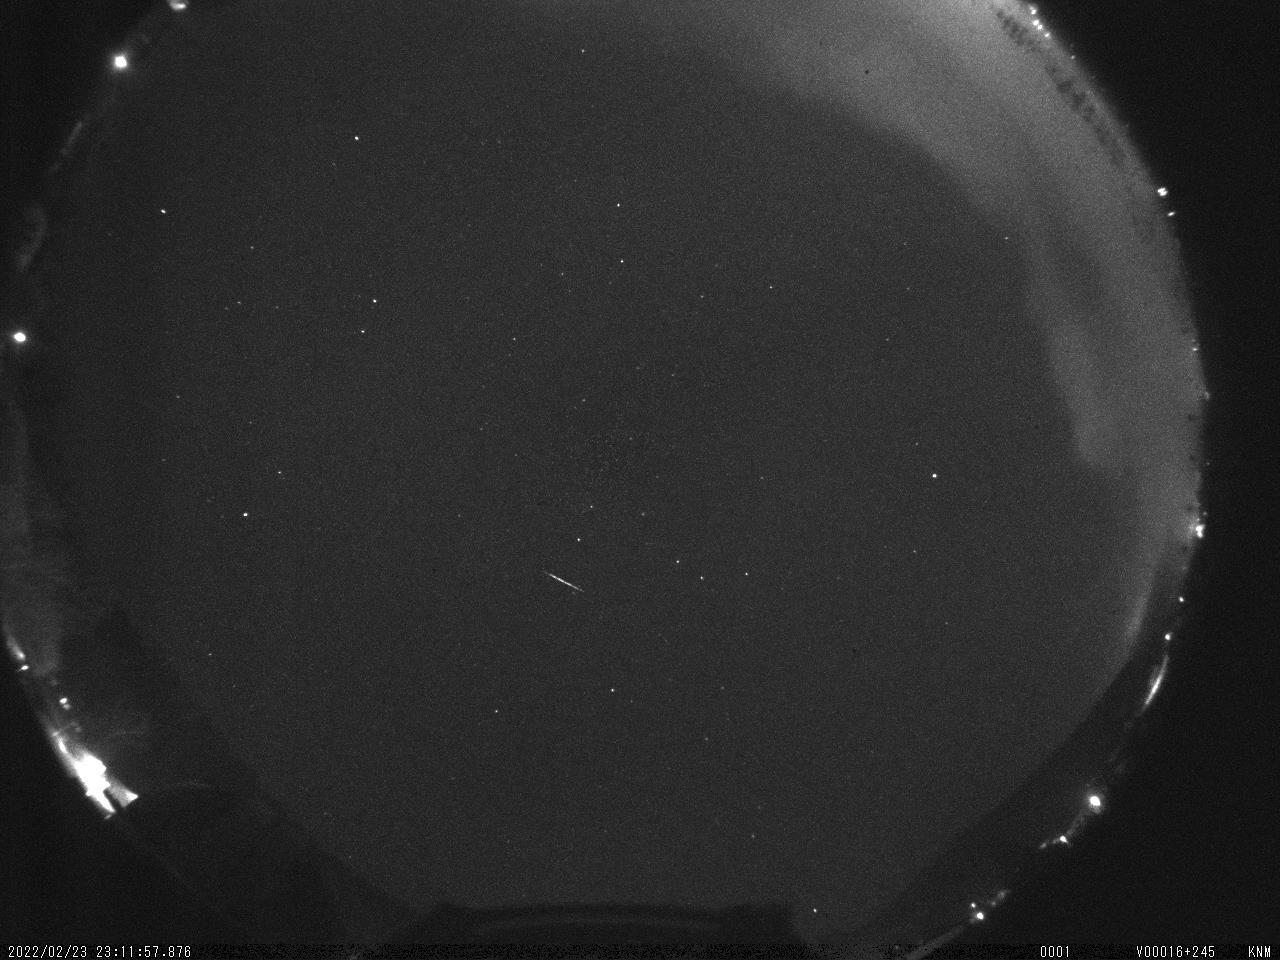Meteor: (542, 566, 592, 597)
